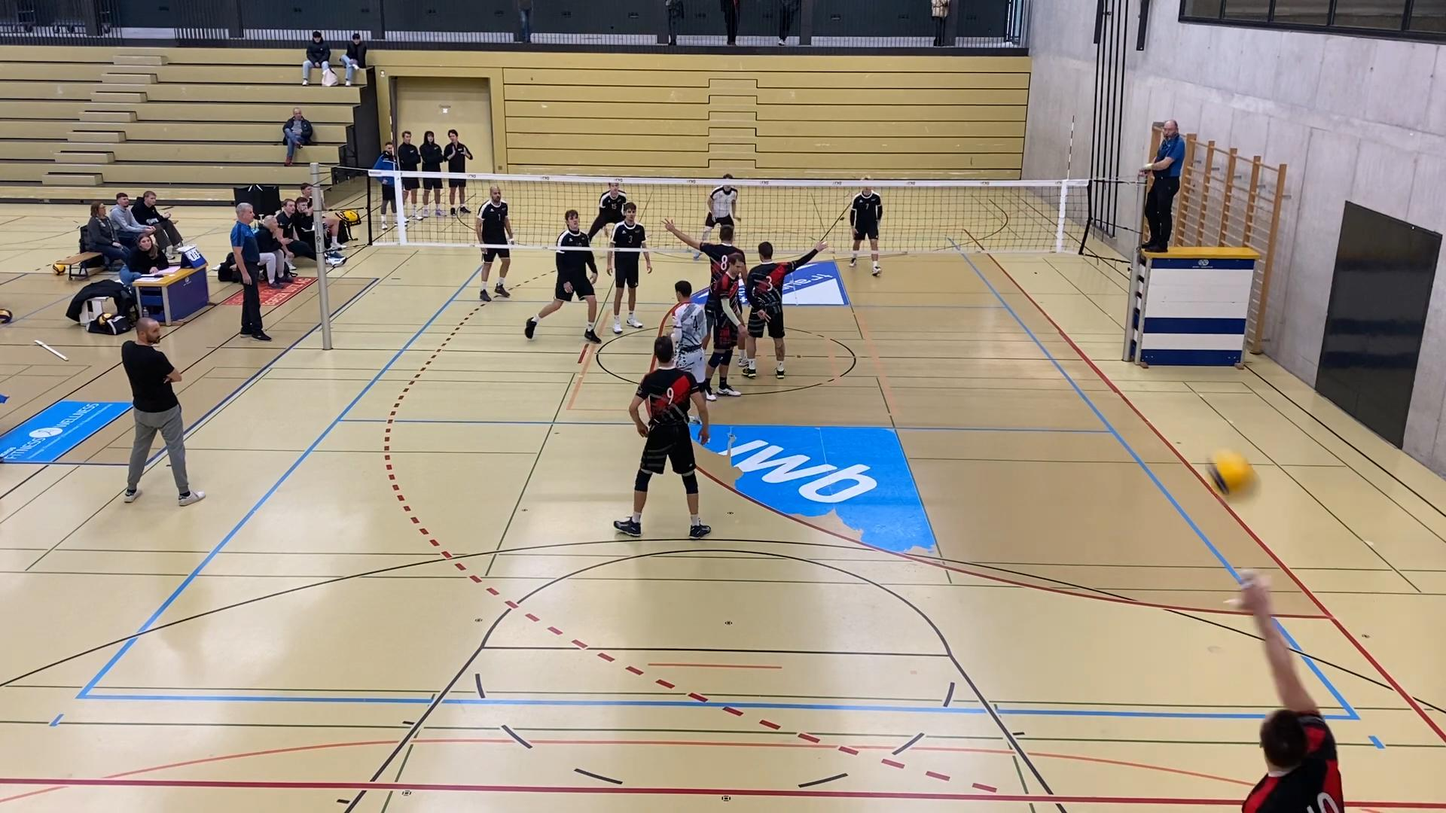battuta: (1209, 575, 1390, 811)
